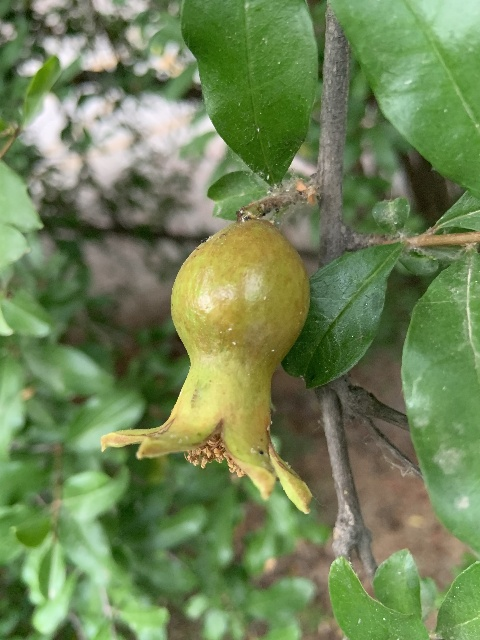mid-growth: (101, 217, 319, 513)
